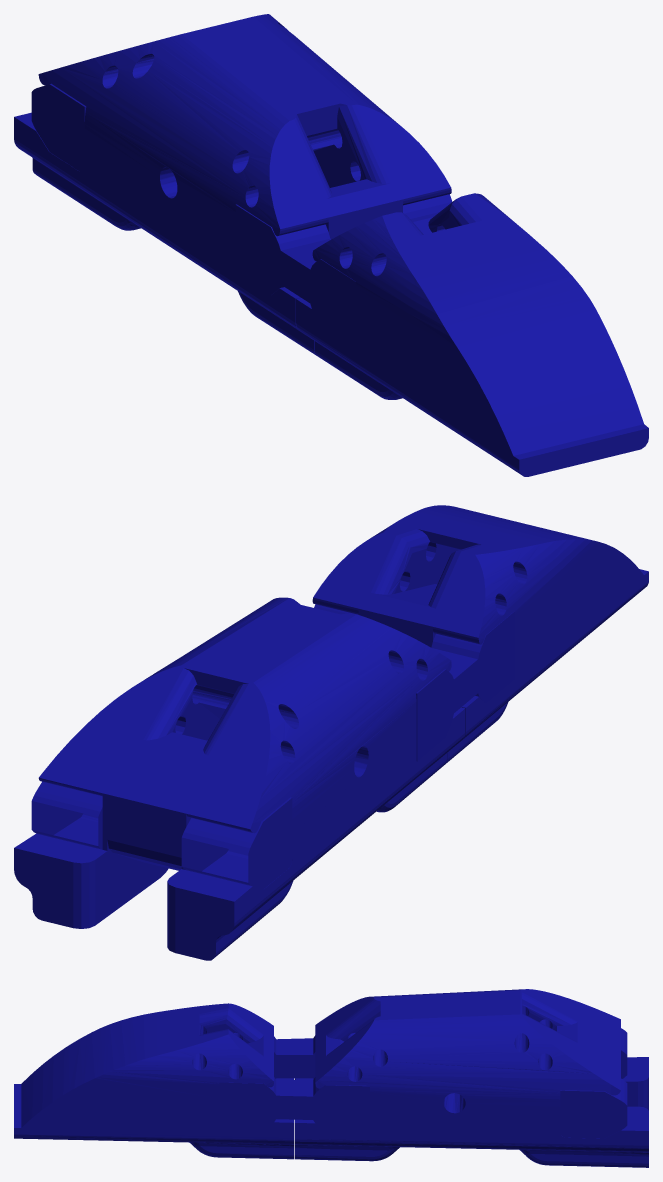
Rendered from fingerTip.obj.
3 views of the same model, one above another, from view 1: azimuth 30°, elevation 25°; view 2: azimuth 150°, elevation 25°; view 3: azimuth 270°, elevation 25° (orthographic). The views are drawn at different scales.
Visible parts, largest first — view 1: FingerAssem3.003_FingerAssem3.006; view 2: FingerAssem3.003_FingerAssem3.006; view 3: FingerAssem3.003_FingerAssem3.006.
Boxes of the visible parts, x1,y1,x2,y2 form: FingerAssem3.003_FingerAssem3.006: (14,14,648,476); FingerAssem3.003_FingerAssem3.006: (14,505,648,960); FingerAssem3.003_FingerAssem3.006: (14,989,648,1167).
Bounding box in the file's own units: 0.0238 × 0.0205 × 0.0859.
